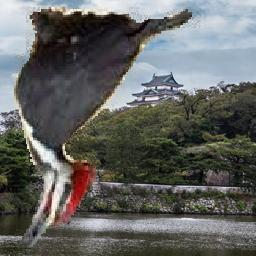Woodpecker: (15, 7, 202, 247)
